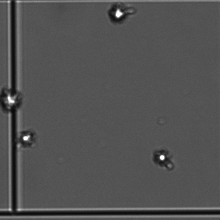Living Cell: (1, 85, 25, 118), (103, 1, 135, 25), (17, 126, 39, 152), (151, 147, 175, 170)
